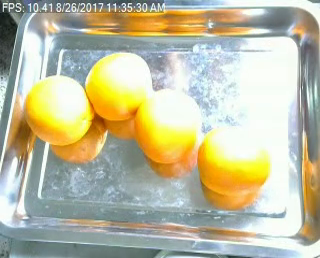Orange: (198, 124, 273, 194), (136, 86, 201, 164), (23, 75, 93, 146), (84, 52, 151, 119)
